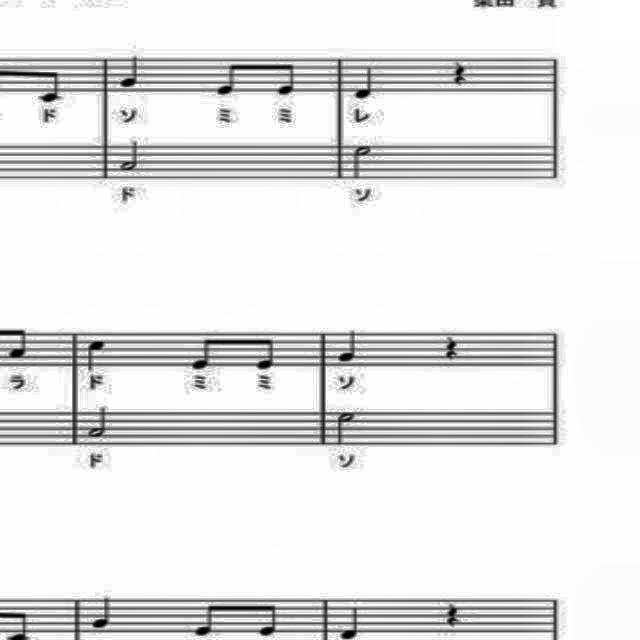Eighth-note: (36, 63, 68, 109), (188, 331, 220, 373), (214, 58, 246, 98), (250, 332, 282, 372), (272, 58, 300, 98), (192, 600, 220, 640), (255, 603, 285, 640), (5, 320, 31, 362)
Half-note: (328, 407, 357, 449), (350, 144, 380, 182), (118, 139, 146, 173), (88, 403, 112, 442)
Quarter-note: (332, 604, 368, 640), (85, 594, 119, 632), (82, 332, 110, 374), (352, 62, 381, 102), (118, 50, 144, 90), (336, 324, 360, 366)
Quarter-rest: (438, 328, 462, 366), (439, 600, 468, 630), (446, 58, 472, 90)
